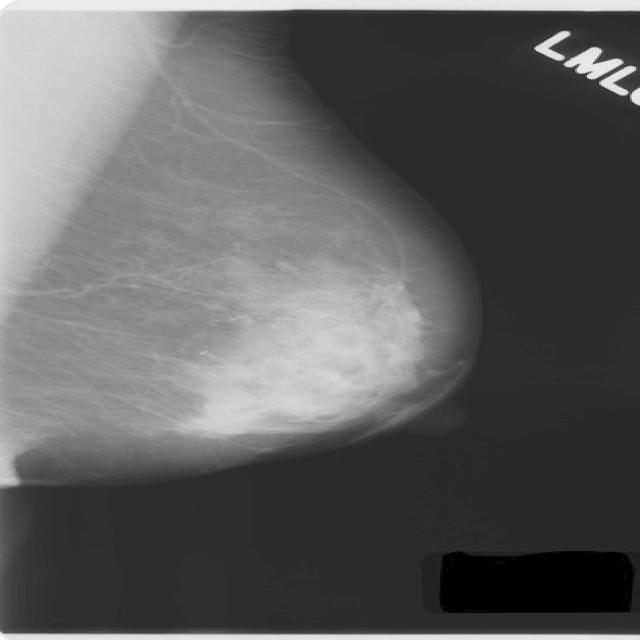tumour: (177, 399, 263, 436)
